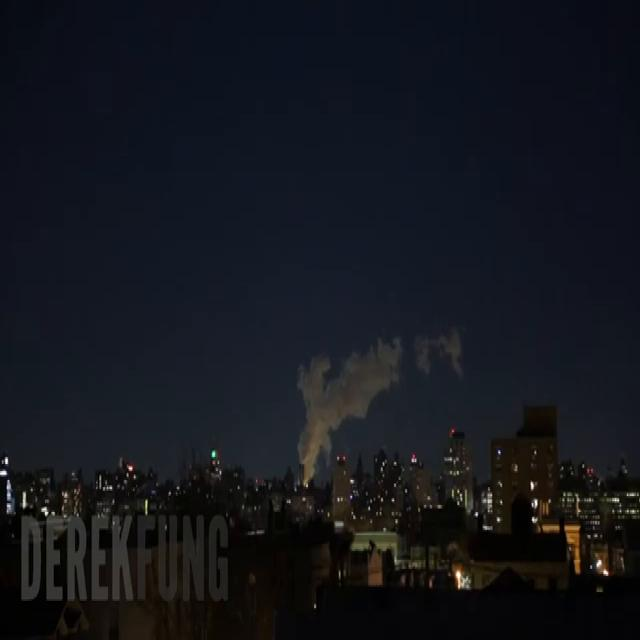smoke: (297, 338, 401, 473)
